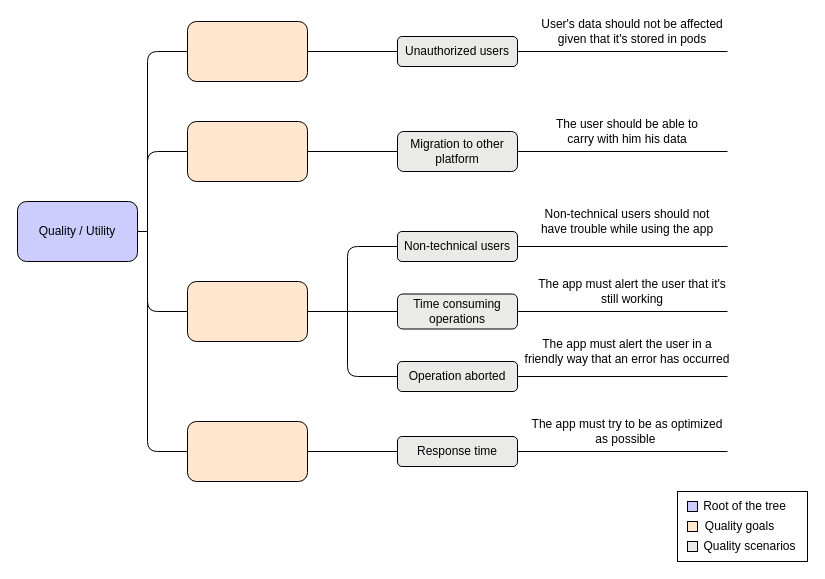
This 825x579 diagram has some shape labels left out. The shapes that lost their labels are listed below. From the top down, each one's box as (x1, y1, x2, y2) in pixels, then its label:
(186, 20, 308, 82): Security and privacy
(186, 120, 308, 182): Independence online
(186, 280, 308, 342): Usability
(186, 420, 308, 482): Efficiency
